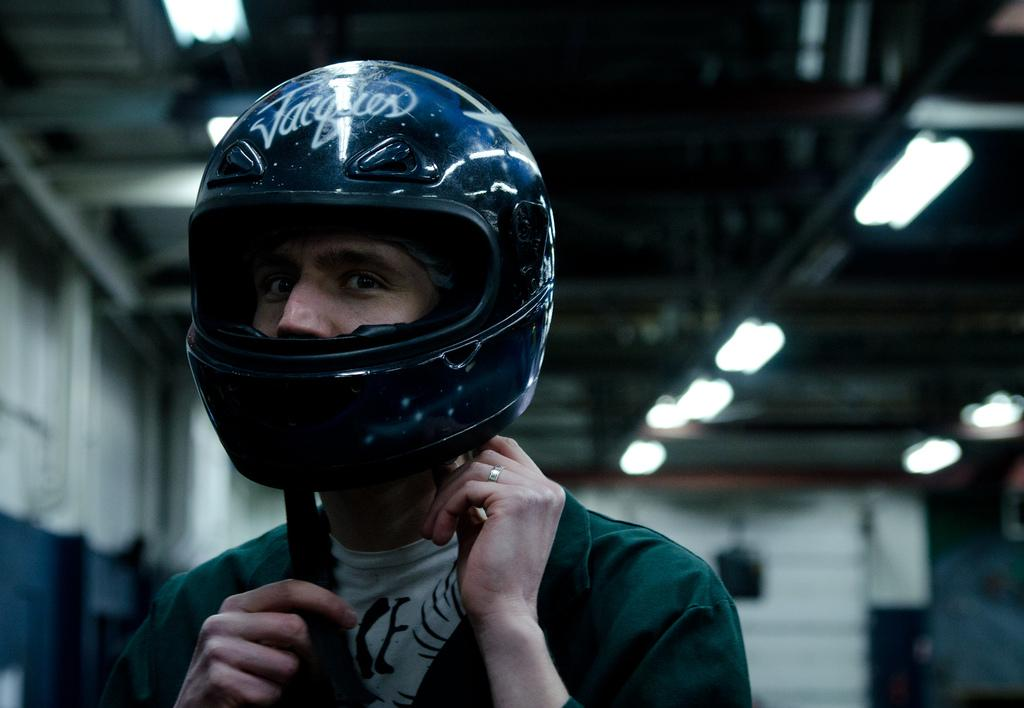helmet: (185, 60, 556, 493)
